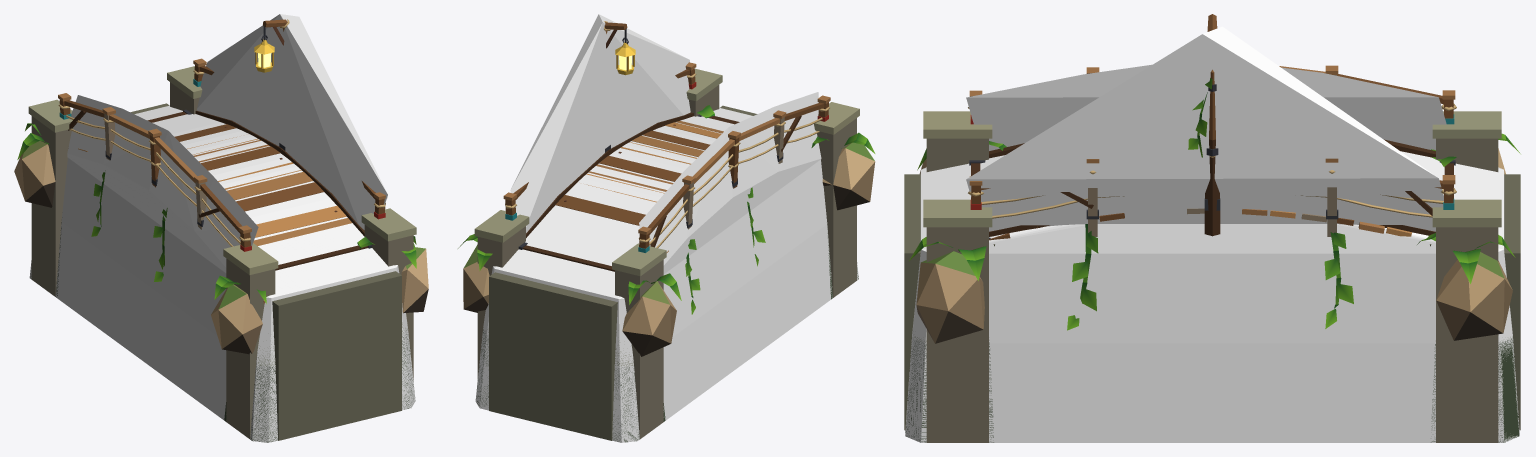
File: wooden_trail_footbridge.glb
The picture shows the model from 3 angles, left to right: view 1: azimuth 30°, elevation 25°; view 2: azimuth 150°, elevation 25°; view 3: azimuth 270°, elevation 25°; orthographic projection. The views are drawn at different scales.
Visible parts, largest first — view 1: WoodenTrailFootbridge, col_bridge_deck, col_bridge_right, col_bridge_left; view 2: WoodenTrailFootbridge, col_bridge_deck, col_bridge_right, col_bridge_left; view 3: col_bridge_deck, WoodenTrailFootbridge, col_bridge_right, col_bridge_left.
Part boxes in pixels (<box>): WoodenTrailFootbridge: <box>14,19,428,442</box>; col_bridge_deck: <box>29,105,415,442</box>; col_bridge_right: <box>197,14,387,229</box>; col_bridge_left: <box>67,95,258,272</box>; WoodenTrailFootbridge: <box>458,21,875,442</box>; col_bridge_deck: <box>475,108,858,442</box>; col_bridge_right: <box>510,14,690,232</box>; col_bridge_left: <box>639,92,821,273</box>; col_bridge_deck: <box>905,151,1519,442</box>; WoodenTrailFootbridge: <box>904,14,1520,442</box>; col_bridge_right: <box>966,26,1443,231</box>; col_bridge_left: <box>966,64,1446,150</box>.
Bounding box in the file's own units: 6.06 × 8.02 × 11.1.
